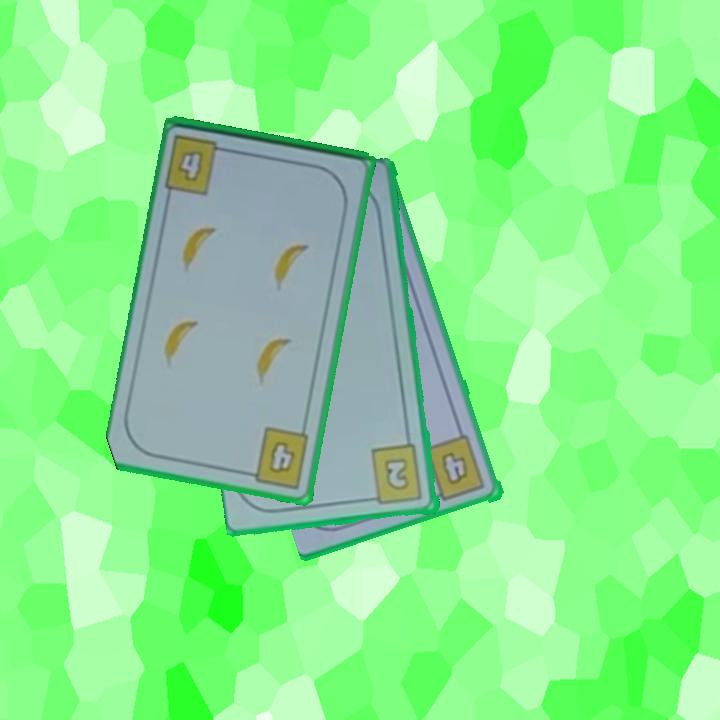2b: (364, 442, 426, 508)
4b: (422, 432, 489, 505), (162, 131, 235, 198), (242, 423, 312, 492)
